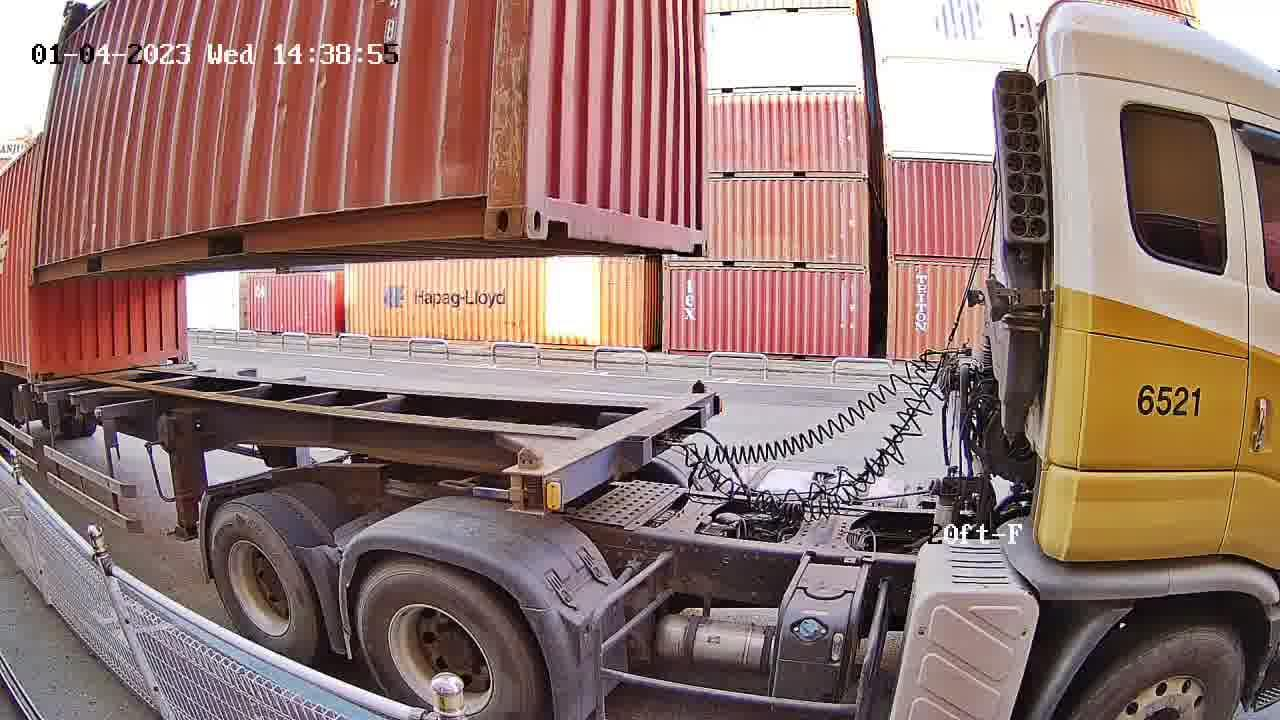Chassis: (505, 388, 716, 513)
Cone: (505, 445, 549, 515)
Hole_L: (526, 170, 579, 238)
Hole_R: (449, 170, 524, 237), (687, 218, 710, 258)
Tire: (358, 566, 536, 719), (209, 503, 318, 664)
